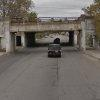Bridge: (7, 4, 87, 37)
